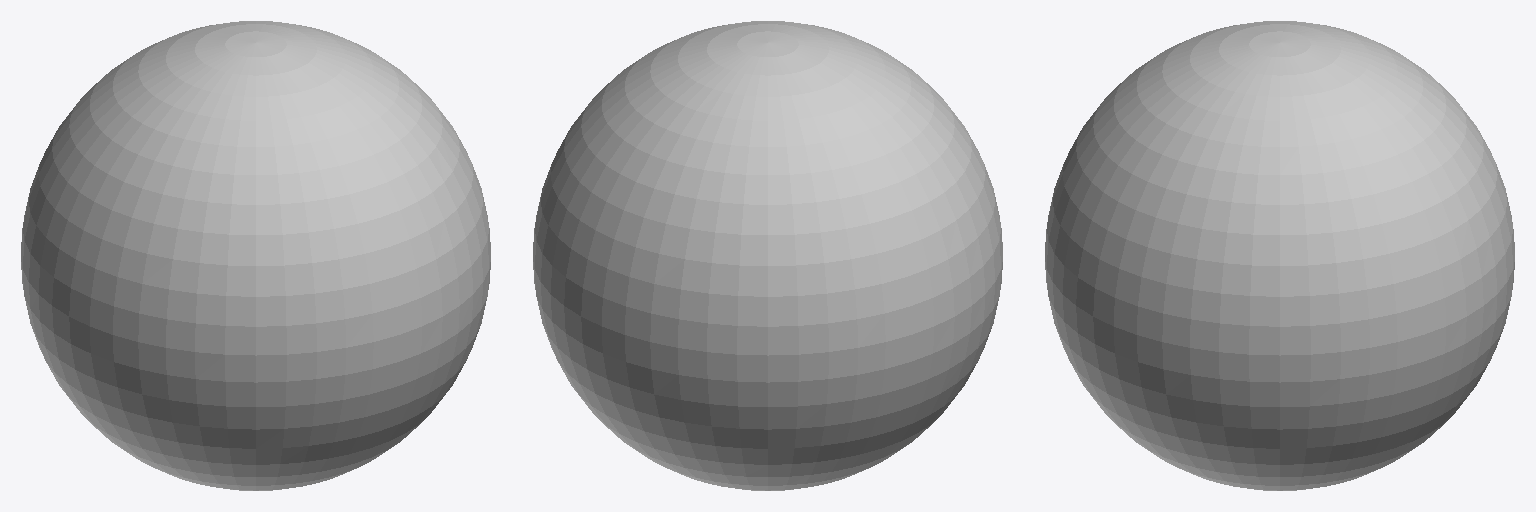
File: planet.obj
3 views of the same model, side by side, from view 1: azimuth 30°, elevation 25°; view 2: azimuth 150°, elevation 25°; view 3: azimuth 270°, elevation 25° (orthographic).
Parts seen in each view (by area): view 1: Planet_001; view 2: Planet_001; view 3: Planet_001.
Part boxes in pixels (x1,y1,x2,y2): Planet_001: (21,21,490,490); Planet_001: (533,21,1002,490); Planet_001: (1045,21,1514,490).
Size of the model in its own units: 1 by 1 by 1.